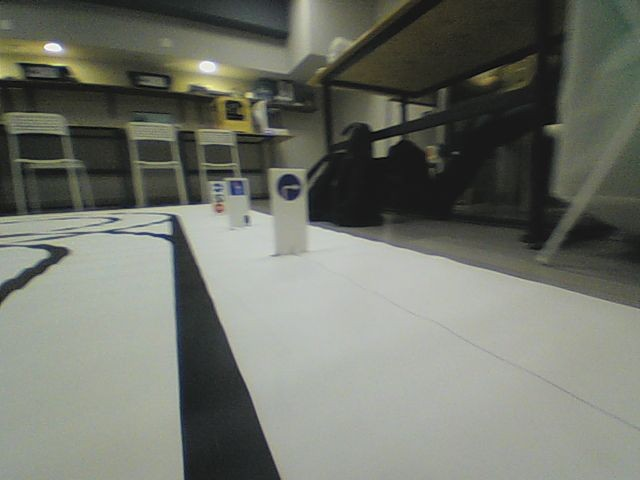Right: (276, 172, 302, 202)
